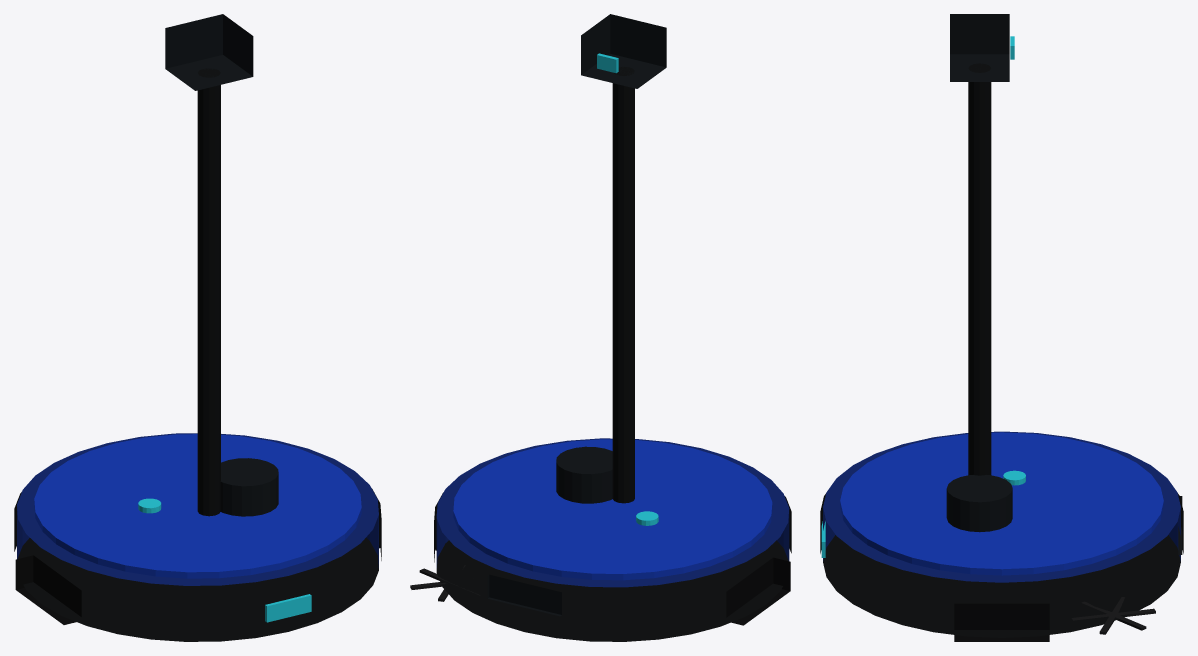
File: robot_blue_h090.obj
The picture shows the model from 3 angles, left to right: view 1: azimuth 30°, elevation 25°; view 2: azimuth 150°, elevation 25°; view 3: azimuth 270°, elevation 25°; orthographic projection. The views are drawn at different scales.
Visible parts, largest first — view 1: low_poly_robot_vacuum; view 2: low_poly_robot_vacuum; view 3: low_poly_robot_vacuum.
Boxes of the visible parts, bbox=[...] form: low_poly_robot_vacuum: bbox=[14, 14, 381, 641]; low_poly_robot_vacuum: bbox=[410, 14, 791, 641]; low_poly_robot_vacuum: bbox=[820, 14, 1183, 641].
Bounding box in the file's own units: 0.572 × 0.935 × 0.572.
